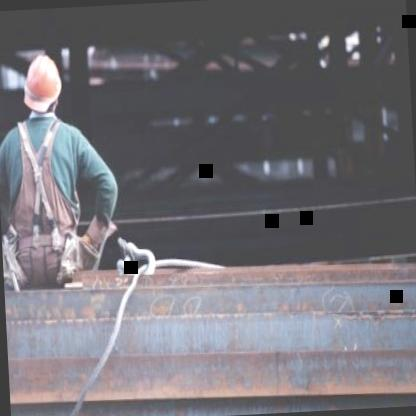helmet: (22, 50, 70, 123)
